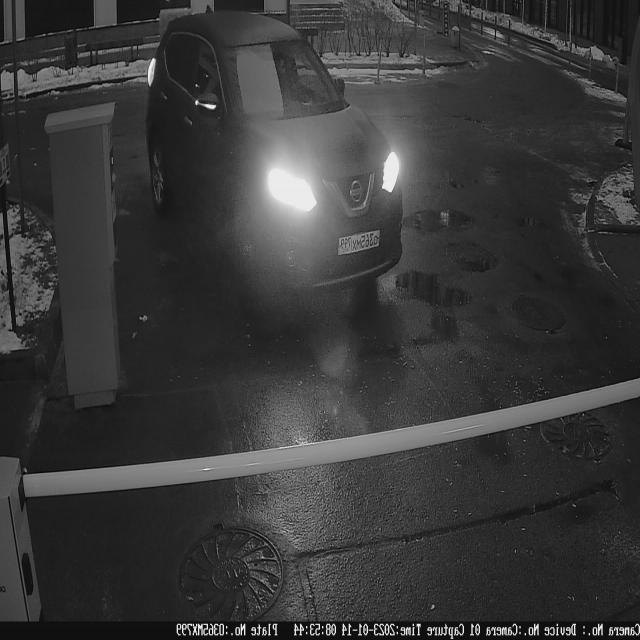car-plate-numbers: (336, 230, 383, 263)
